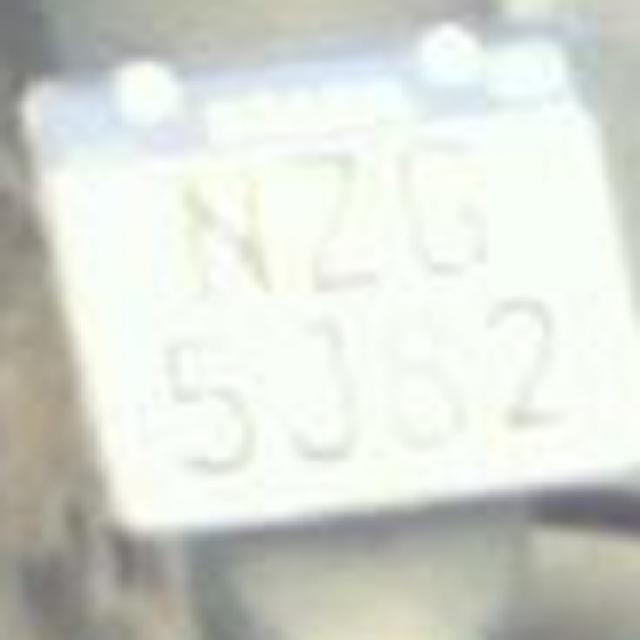0: (256, 280, 384, 488)
2: (452, 268, 588, 464)
5: (355, 280, 480, 472), (148, 324, 272, 491)
N: (148, 148, 284, 320)
Z: (272, 132, 396, 300)
